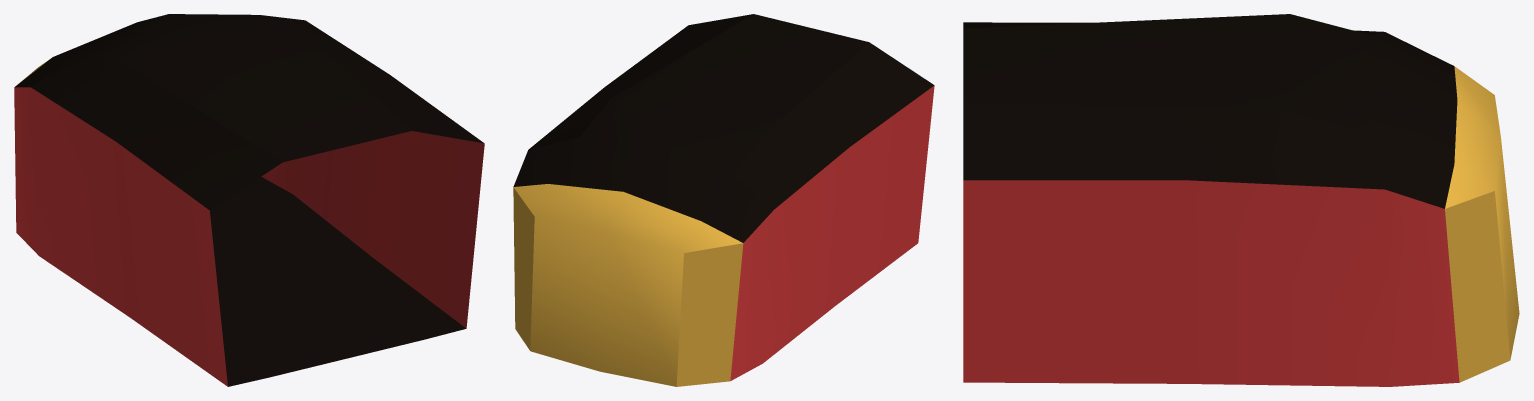
The model's file is Cockpit.fbx.
3 renders of one model, left to right at view 1: azimuth 30°, elevation 25°; view 2: azimuth 150°, elevation 25°; view 3: azimuth 270°, elevation 25°, orthographic. The views are drawn at different scales.
Parts seen in each view (by area): view 1: Cube.007; view 2: Cube.007; view 3: Cube.007.
Part boxes in pixels (bbox=[...]): Cube.007: bbox=[14, 14, 484, 386]; Cube.007: bbox=[513, 14, 934, 386]; Cube.007: bbox=[963, 14, 1519, 386].
Size of the model in its own units: 11.43 by 8.75 by 17.02.
